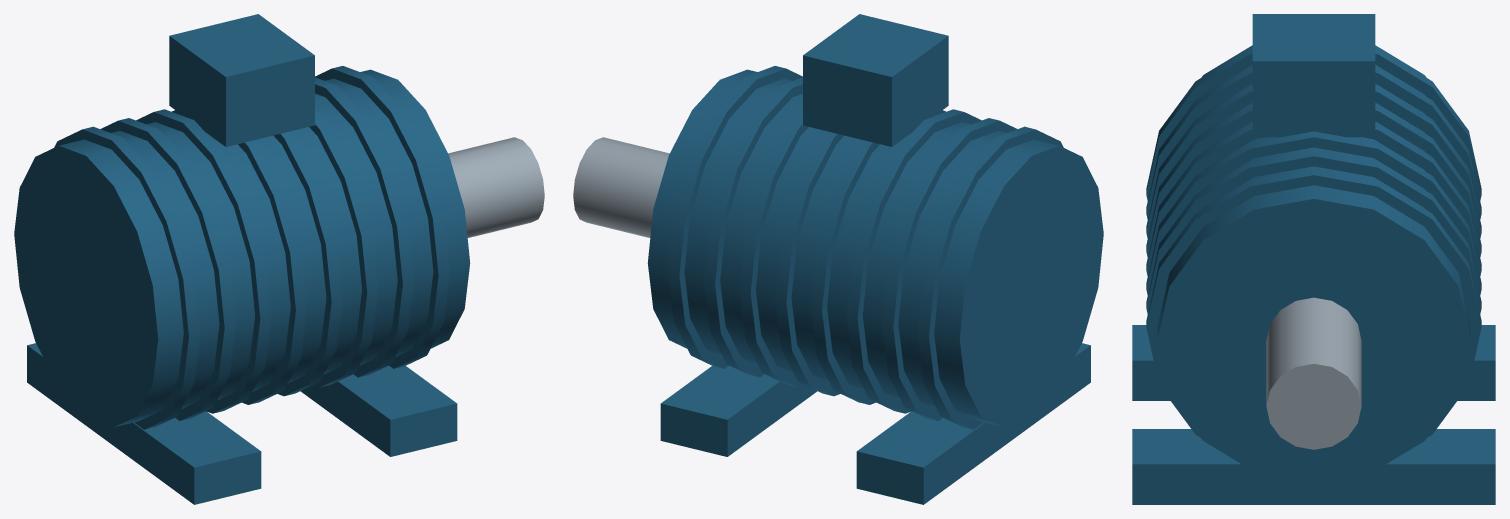
3 views of the same model, side by side, from view 1: azimuth 30°, elevation 25°; view 2: azimuth 150°, elevation 25°; view 3: azimuth 270°, elevation 25° (orthographic). The views are drawn at different scales.
Visible parts, largest first — view 1: 防爆电机; view 2: 防爆电机; view 3: 防爆电机.
Boxes of the visible parts, left/top/right/bottom form: 防爆电机: left=14, top=14, right=544, bottom=504; 防爆电机: left=573, top=14, right=1103, bottom=504; 防爆电机: left=1132, top=14, right=1495, bottom=504.
Size of the model in its own units: 0.98 by 0.785 by 0.65.
